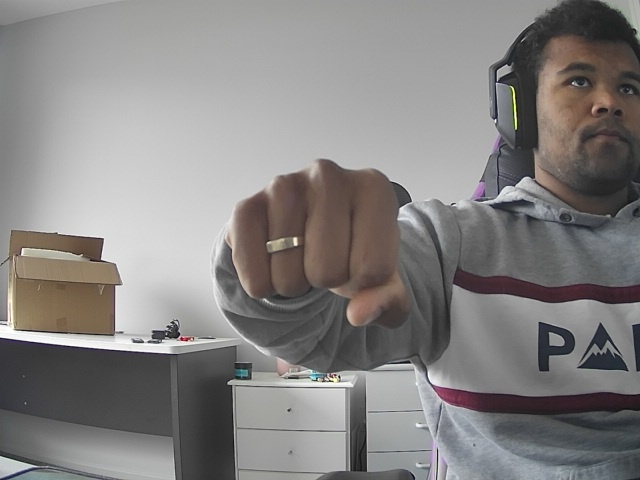Yes: (193, 142, 432, 345)
